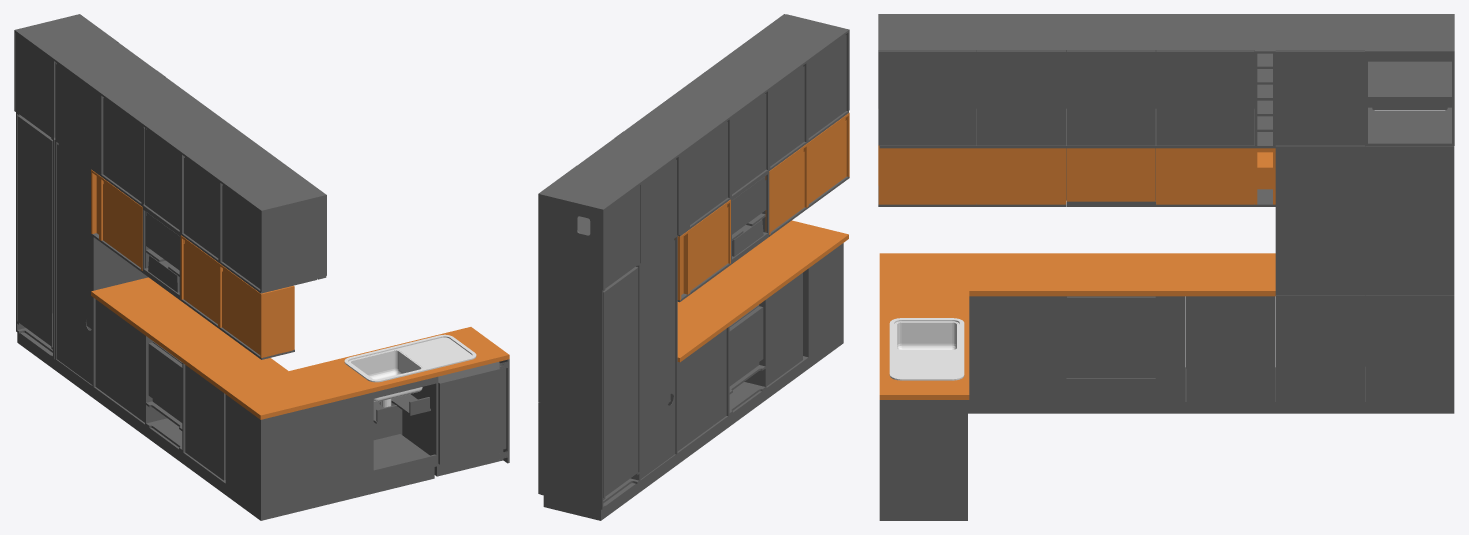
Rendered from kitchen.dae.
3 views of the same model, side by side, from view 1: azimuth 30°, elevation 25°; view 2: azimuth 150°, elevation 25°; view 3: azimuth 270°, elevation 25° (orthographic). The views are drawn at different scales.
Visible parts, largest first — view 1: Kitchen black, Kitchen wood, Kitchen metallic; view 2: Kitchen black, Kitchen wood; view 3: Kitchen black, Kitchen wood, Kitchen metallic.
Part boxes in pixels (box(x1,y1,x2,y2)): Kitchen black: box(14, 14, 509, 520); Kitchen wood: box(91, 169, 509, 419); Kitchen metallic: box(344, 334, 476, 407); Kitchen black: box(538, 14, 849, 520); Kitchen wood: box(675, 112, 849, 362); Kitchen black: box(878, 14, 1454, 520); Kitchen wood: box(878, 145, 1275, 399); Kitchen metallic: box(889, 318, 964, 380).
Bounding box in the file's own units: 2.24 × 3.86 × 2.7.
